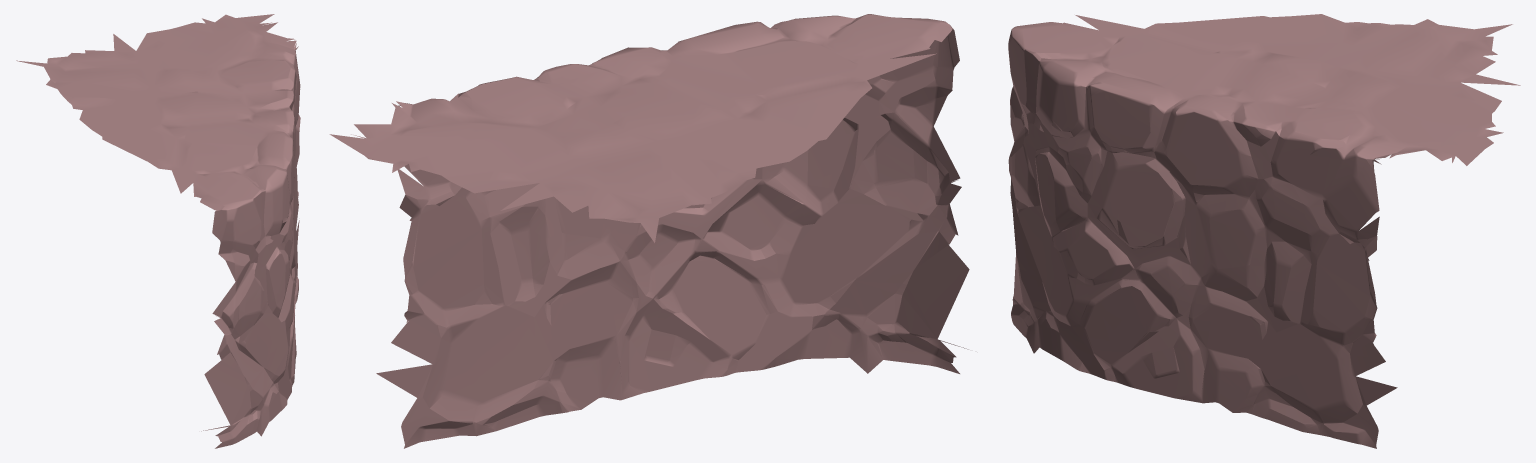
Rendered from pleateauArea1.fbx_PolyShape__46__010LODs.fbx.
The picture shows the model from 3 angles, left to right: view 1: azimuth 30°, elevation 25°; view 2: azimuth 150°, elevation 25°; view 3: azimuth 270°, elevation 25°; orthographic projection. The views are drawn at different scales.
Parts seen in each view (by area): view 1: PolyShape (46).010_LOD0; view 2: PolyShape (46).010_LOD0; view 3: PolyShape (46).010_LOD0.
Boxes of the visible parts, left/top/right/bottom form: PolyShape (46).010_LOD0: left=16, top=14, right=300, bottom=448; PolyShape (46).010_LOD0: left=329, top=14, right=969, bottom=448; PolyShape (46).010_LOD0: left=1008, top=14, right=1520, bottom=448.
Size of what is drawn, in the model's own units: 4724 by 4296 by 6596.
